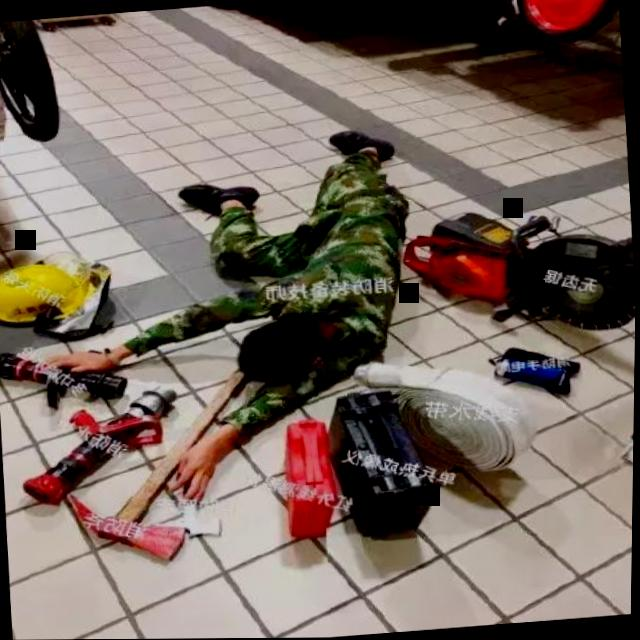Fall-Detected: (0, 126, 454, 513)
